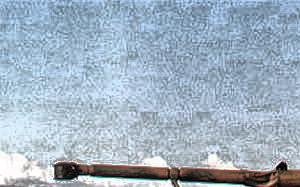tanks: (55, 164, 300, 187)
